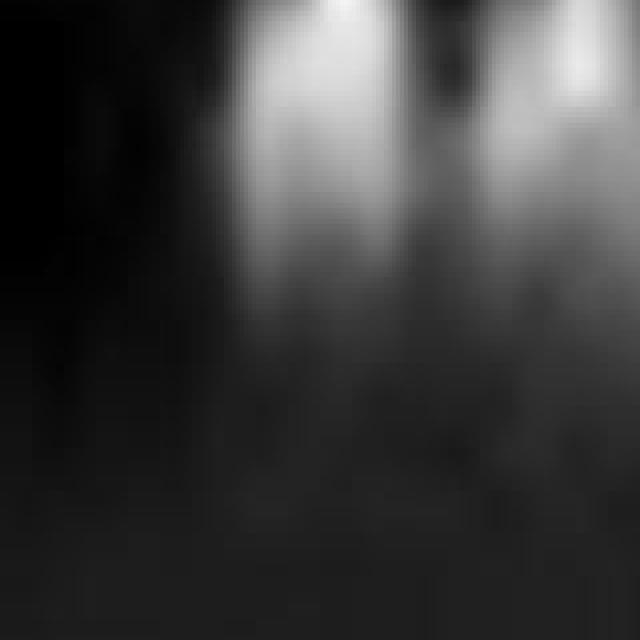person: (465, 1, 640, 460), (217, 1, 425, 353)
